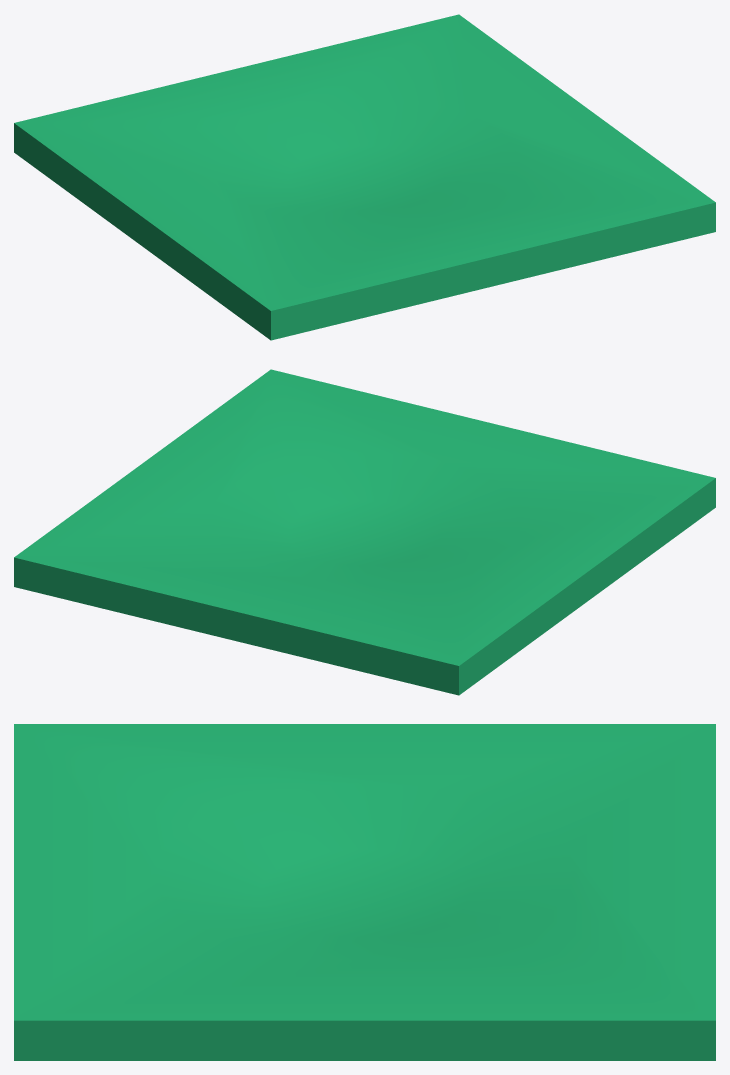
The model's file is bumpDown.obj.
The picture shows the model from 3 angles, top to bottom: view 1: azimuth 30°, elevation 25°; view 2: azimuth 150°, elevation 25°; view 3: azimuth 270°, elevation 25°; orthographic projection. The views are drawn at different scales.
Parts seen in each view (by area): view 1: bumpDown; view 2: bumpDown; view 3: bumpDown.
Boxes of the visible parts, box(x1,y1,x2,y2) form: bumpDown: box(14, 14, 715, 340); bumpDown: box(14, 369, 715, 695); bumpDown: box(14, 724, 715, 1060).
Size of the model in its own units: 0.9999 by 0.0633 by 0.9999.
